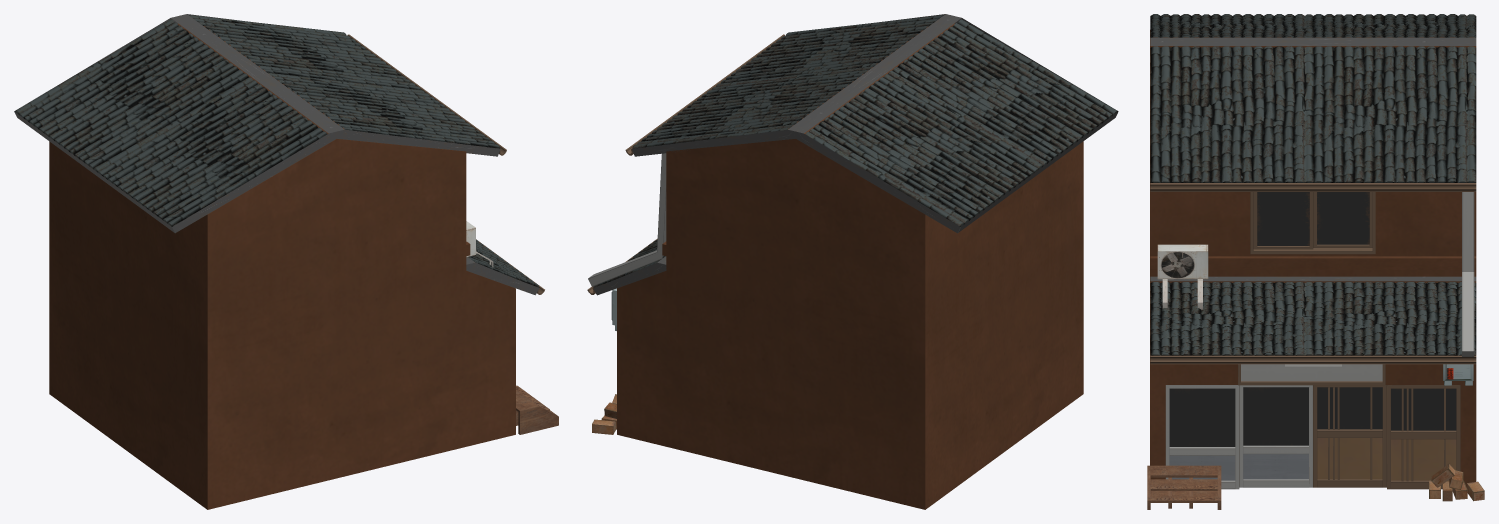
The model's file is tokyo-house-b.glb.
The picture shows the model from 3 angles, left to right: view 1: azimuth 30°, elevation 25°; view 2: azimuth 150°, elevation 25°; view 3: azimuth 270°, elevation 25°; orthographic projection. The views are drawn at different scales.
Visible parts, largest first — view 1: JapaneseResidentialHome_02; view 2: JapaneseResidentialHome_02; view 3: JapaneseResidentialHome_02.
Part boxes in pixels (x1=…): JapaneseResidentialHome_02: x1=14, y1=14, x2=558, y2=509; JapaneseResidentialHome_02: x1=587, y1=14, x2=1118, y2=509; JapaneseResidentialHome_02: x1=1147, y1=14, x2=1484, y2=509.
Bounding box in the file's own units: 816 × 703 × 601.
Materials: 2 (2 with a texture image).
